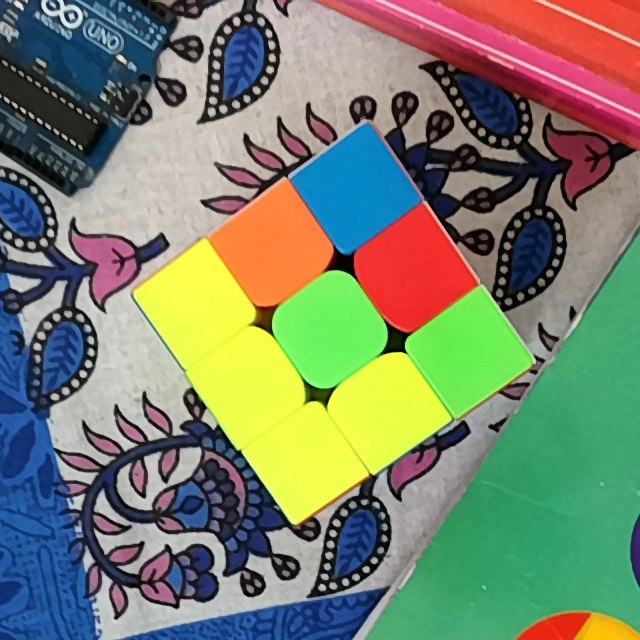tile: (320, 159, 388, 225), (240, 216, 307, 281), (433, 322, 501, 386), (294, 297, 363, 359), (274, 428, 338, 490), (379, 242, 444, 303), (220, 350, 281, 413), (355, 377, 417, 438), (165, 274, 224, 337)
